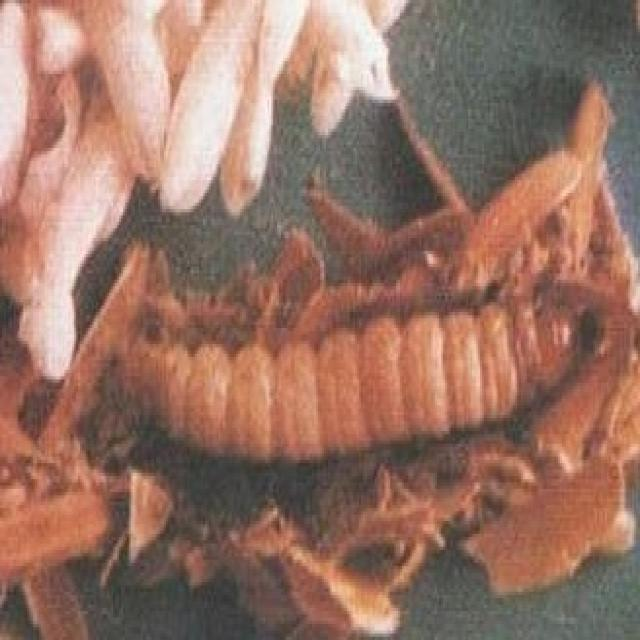peach borer: (111, 307, 593, 455)
